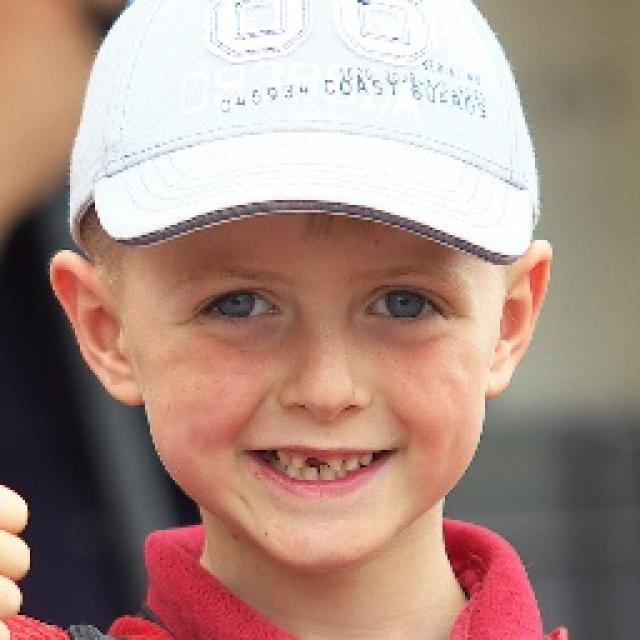earlobe: (484, 339, 517, 401), (106, 363, 146, 407)
eye: (364, 285, 445, 321), (201, 289, 284, 321)
nose: (281, 397, 367, 443)
wholeear: (48, 251, 146, 407), (484, 239, 554, 401)
